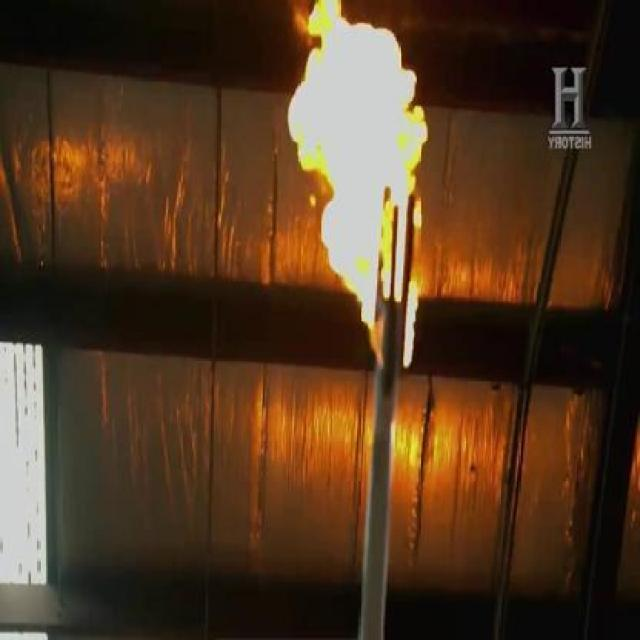Smoke: (278, 0, 433, 370)
